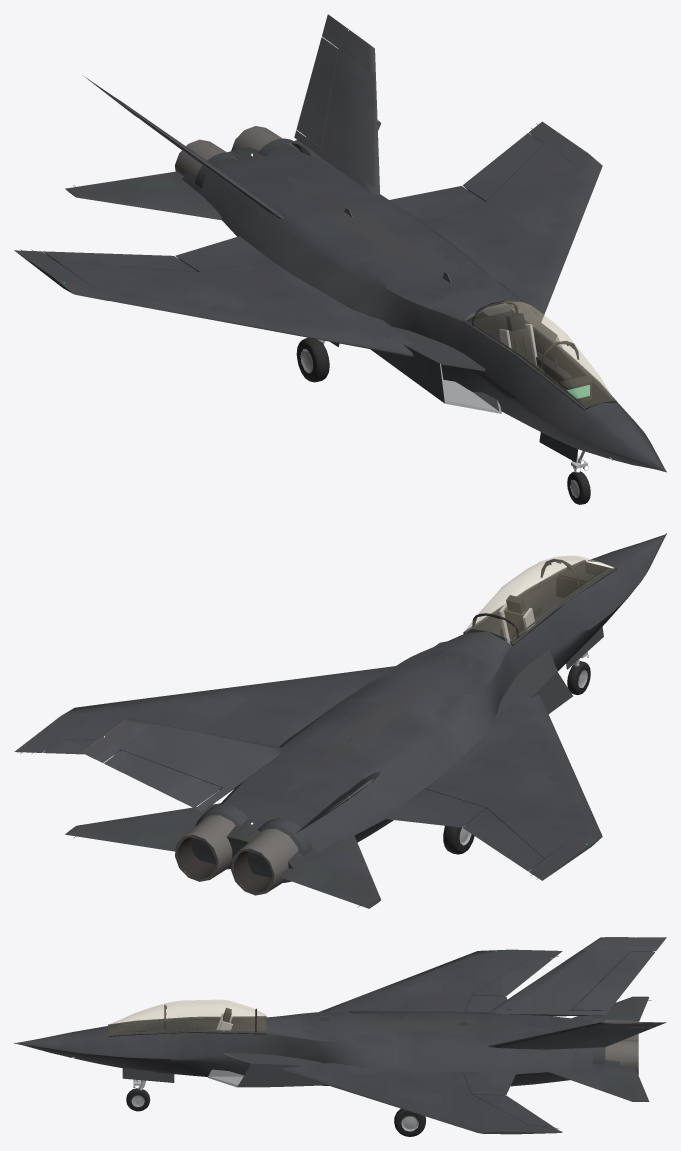
File: stealth-fighter_card.glb
3 views of the same model, one above another, from view 1: azimuth 30°, elevation 25°; view 2: azimuth 150°, elevation 25°; view 3: azimuth 270°, elevation 25° (orthographic). The views are drawn at different scales.
Visible parts, largest first — view 1: wings_tails, fuselage, canopy_glass, intakes, cockpit, stabilator_R_mesh, nozzles, rudder_L_mesh, aileron_L_mesh, flap_L_mesh, flap_R_mesh, aileron_R_mesh (+3 smaller); view 2: fuselage, wings_tails, nozzles, canopy_glass, stabilator_R_mesh, stabilator_L_mesh, cockpit, rudder_L_mesh, flap_R_mesh, intakes, aileron_R_mesh, canopy_frame (+3 smaller); view 3: fuselage, wings_tails, canopy_glass, intakes, stabilator_L_mesh, rudder_R_mesh, cockpit, nozzles, aileron_R_mesh, canopy_frame, flap_L_mesh, stabilator_R_mesh (+6 smaller).
Boxes of the visible parts, x1,y1,x2,y2 form: wings_tails: (14, 14, 602, 356); fuselage: (182, 144, 666, 472); canopy_glass: (465, 301, 614, 407); intakes: (370, 305, 562, 413); cockpit: (467, 311, 613, 409); stabilator_R_mesh: (65, 171, 221, 220); nozzles: (175, 126, 310, 188); rudder_L_mesh: (296, 37, 337, 147); aileron_L_mesh: (462, 133, 544, 201); flap_L_mesh: (389, 186, 485, 224); flap_R_mesh: (175, 236, 272, 271); aileron_R_mesh: (43, 251, 197, 271); fuselage: (191, 533, 666, 877); wings_tails: (14, 666, 602, 880); nozzles: (175, 804, 312, 895); canopy_glass: (465, 556, 614, 642); stabilator_R_mesh: (278, 835, 380, 908); stabilator_L_mesh: (65, 803, 220, 851); cockpit: (467, 562, 612, 644); rudder_L_mesh: (104, 750, 221, 807); flap_R_mesh: (382, 788, 485, 827); intakes: (434, 641, 572, 713); aileron_R_mesh: (463, 808, 544, 871); canopy_frame: (463, 559, 616, 645); fuselage: (14, 1011, 619, 1086); wings_tails: (280, 937, 666, 1134); canopy_glass: (108, 1000, 265, 1034); intakes: (207, 1053, 326, 1087); stabilator_L_mesh: (549, 1066, 649, 1101); rudder_R_mesh: (572, 951, 654, 1010); cockpit: (108, 1007, 266, 1035); nozzles: (592, 1016, 638, 1074); aileron_R_mesh: (472, 958, 552, 996); canopy_frame: (108, 1004, 266, 1036); flap_L_mesh: (463, 1072, 516, 1095); stabilator_R_mesh: (572, 996, 649, 1021).
Size of the model in its own units: 11.69 by 3.94 by 17.72.
25 materials, 1 textured.
